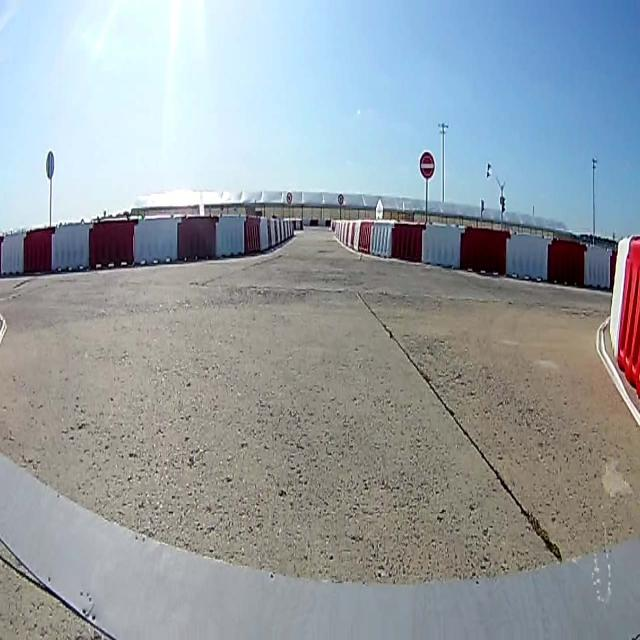girisyok: (419, 150, 436, 179)
